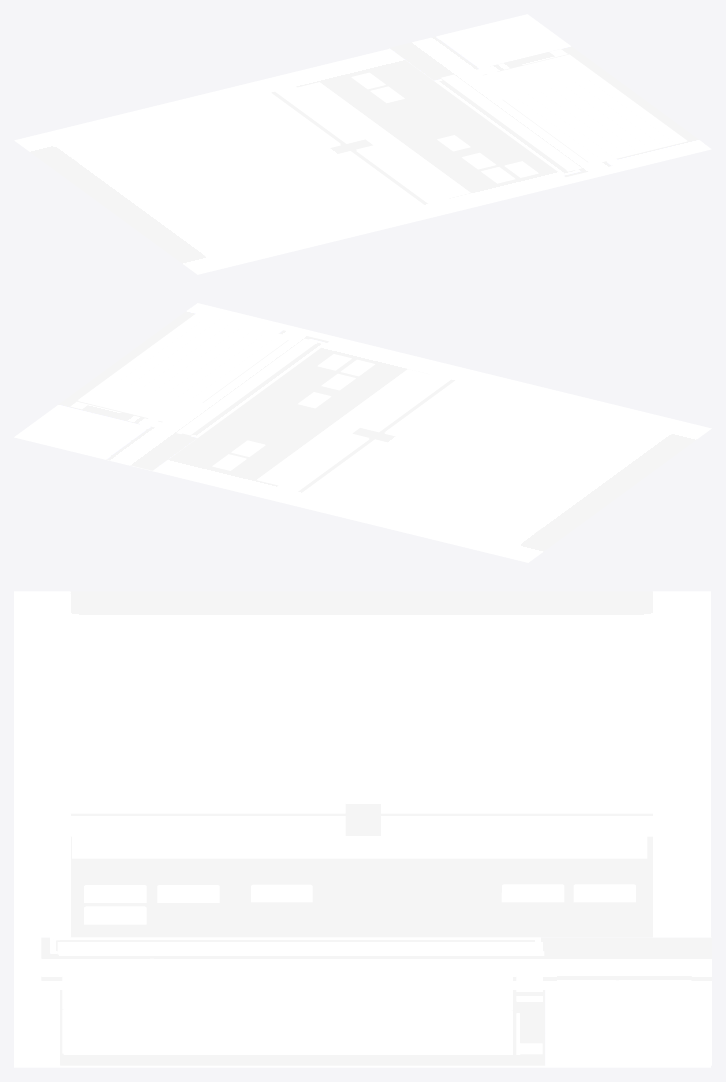
The model's file is cdu1.glb.
The picture shows the model from 3 angles, top to bottom: view 1: azimuth 30°, elevation 25°; view 2: azimuth 150°, elevation 25°; view 3: azimuth 270°, elevation 25°; orthographic projection. The views are drawn at different scales.
Visible parts, largest first — view 1: cdu (×2), ~help_box, ~base, ~input (×3), ~search.click, ~l3p, ~l1p, ~l5p, ~l2p, ~l4p, ~l7p, ~l6p (+17 smaller); view 2: cdu (×2), ~help_box, ~base, ~input (×3), ~search.click, ~l2p, ~l4p, ~l6p, ~l1p, ~l5p, ~l3p, ~l7p (+17 smaller); view 3: cdu (×2), ~help_box, ~base, ~input (×3), ~search.click, ~select.7.click, ~select.6.click, ~select.5.click, ~select.4.click, ~select.1.click, ~select.0.click, ~l1p (+35 smaller).
Part boxes in pixels (box(x1,y1,x2,y2)): cdu (×2): box(46, 48, 711, 266); ~help_box: box(389, 14, 703, 177); ~base: box(14, 132, 228, 274); ~input (×3): box(108, 81, 473, 244); ~search.click: box(441, 74, 581, 171); ~l3p: box(253, 170, 347, 229); ~l1p: box(202, 182, 295, 241); ~l5p: box(306, 157, 399, 216); ~l2p: box(227, 176, 320, 235); ~l4p: box(279, 163, 372, 222); ~l7p: box(356, 145, 449, 204); ~l6p: box(331, 151, 424, 210); cdu (×2): box(14, 303, 679, 554); ~help_box: box(15, 307, 329, 470); ~base: box(497, 421, 711, 562); ~input (×3): box(254, 368, 619, 531); ~search.click: box(177, 338, 317, 435); ~l2p: box(488, 403, 581, 462); ~l4p: box(436, 390, 530, 449); ~l6p: box(384, 378, 478, 437); ~l1p: box(514, 409, 607, 468); ~l5p: box(410, 384, 503, 443); ~l3p: box(462, 397, 555, 456); ~l7p: box(360, 371, 453, 430); cdu (×2): box(14, 620, 710, 1067); ~help_box: box(41, 937, 711, 1065); ~base: box(14, 591, 710, 620); ~input (×3): box(70, 662, 647, 861); ~search.click: box(57, 942, 542, 954); ~select.7.click: box(62, 1042, 511, 1053); ~select.6.click: box(62, 1031, 511, 1042); ~select.5.click: box(62, 1020, 511, 1031); ~select.4.click: box(62, 1009, 511, 1020); ~select.1.click: box(62, 975, 511, 986); ~select.0.click: box(62, 964, 511, 975); ~l1p: box(62, 673, 345, 691).
Size of the model in its own units: 0.271 by 0.00101 by 0.1678.
Materials: 5 (5 with a texture image).
